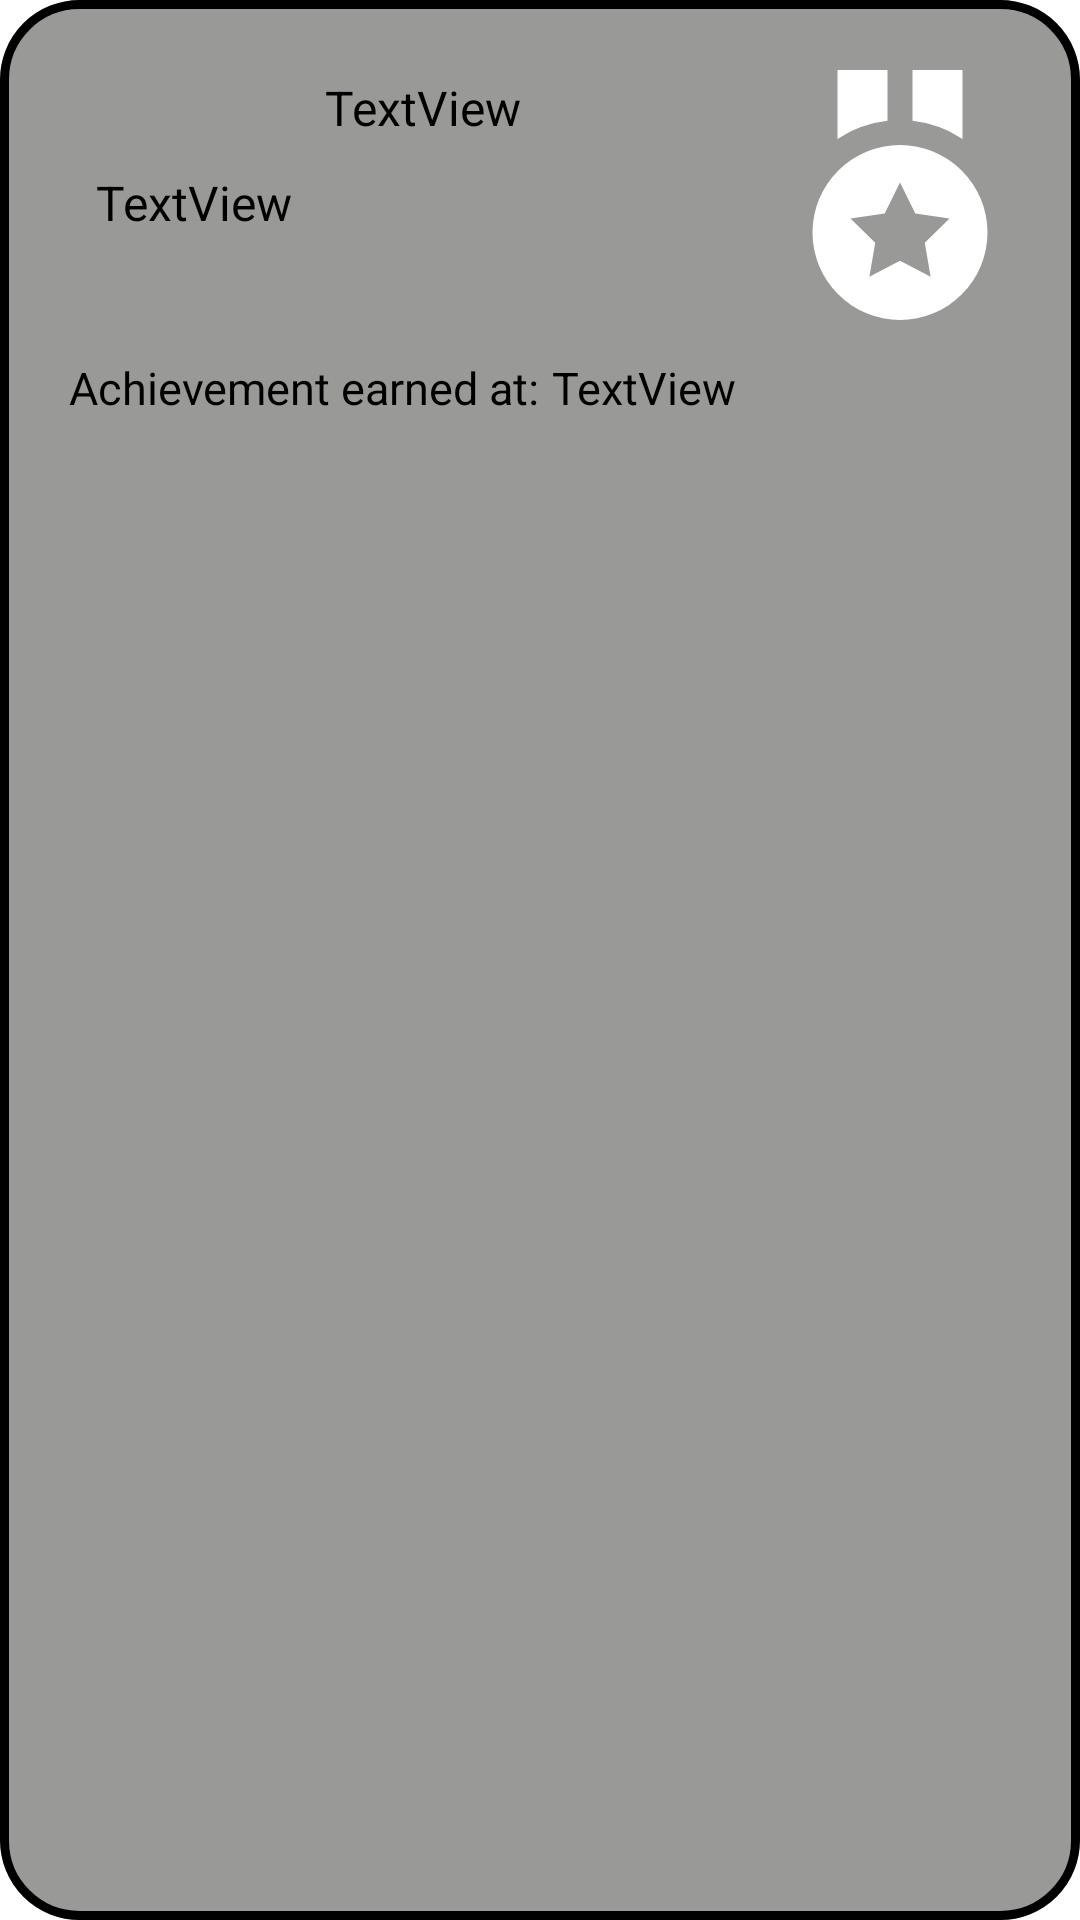

Screen size 1080px×1920px. Icon name, then its box in pixels as (x1, y1, x2, y2):
bxs medal: (812, 70, 988, 320)
